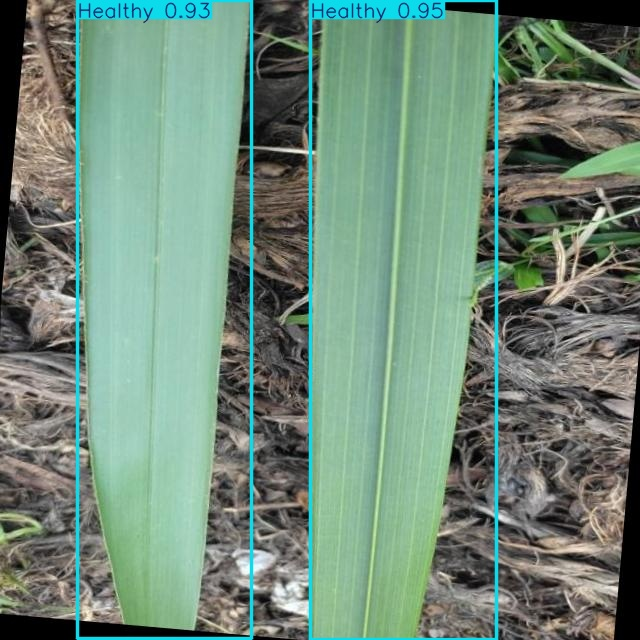Healthy: (310, 0, 497, 640), (78, 0, 252, 638)
